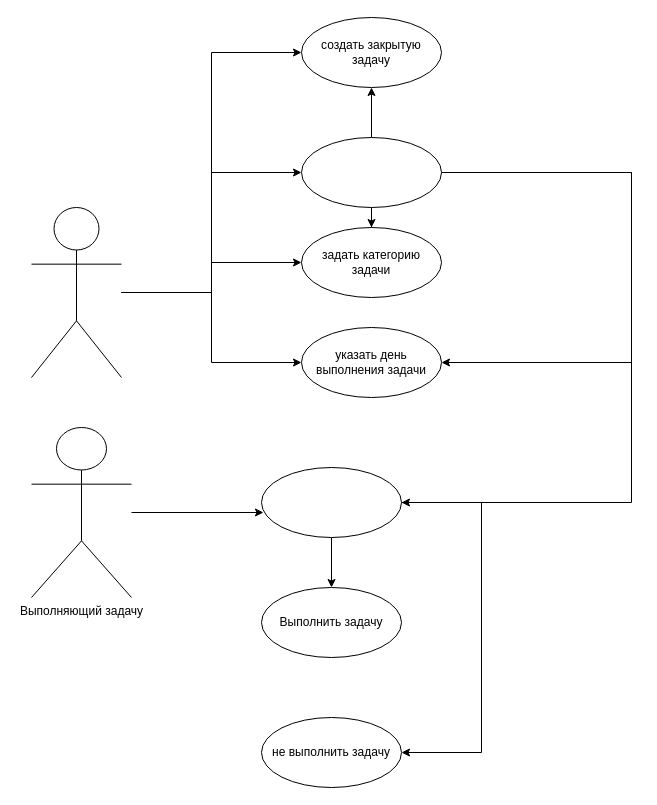
This 657x805 diagram has some shape labels left out. The shapes that lost their labels are listed below. From the top down, each one's box as (x1, y1, x2, y2) in pixels, then its label:
(300, 136, 442, 208): Создать задачу
(30, 206, 122, 378): Созставитель задачи
(260, 466, 402, 538): Принять задачу
